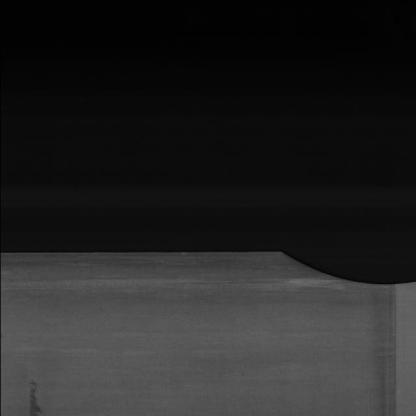crescent_gap: (268, 242, 416, 294)
welding_line: (379, 276, 408, 416)
